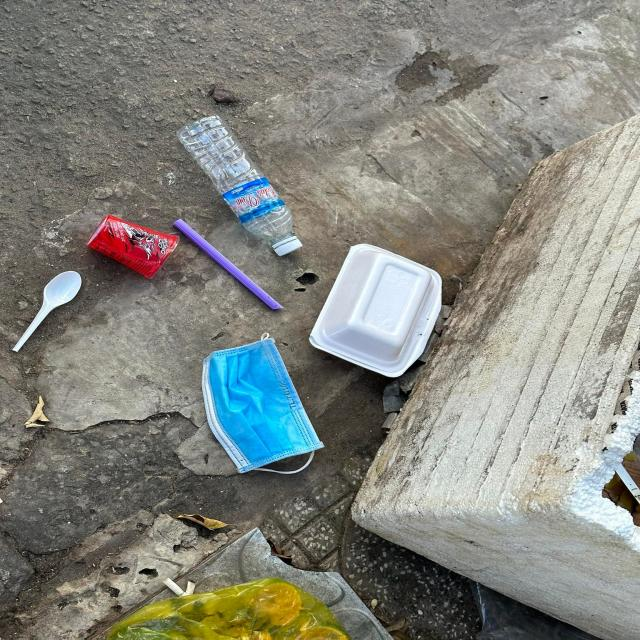bottle: (174, 116, 304, 256)
drinking straw: (174, 217, 284, 310)
foam box: (310, 244, 442, 377)
mask: (201, 333, 326, 476)
plastic utensil: (11, 271, 80, 353)
trash bag: (107, 577, 348, 640)
